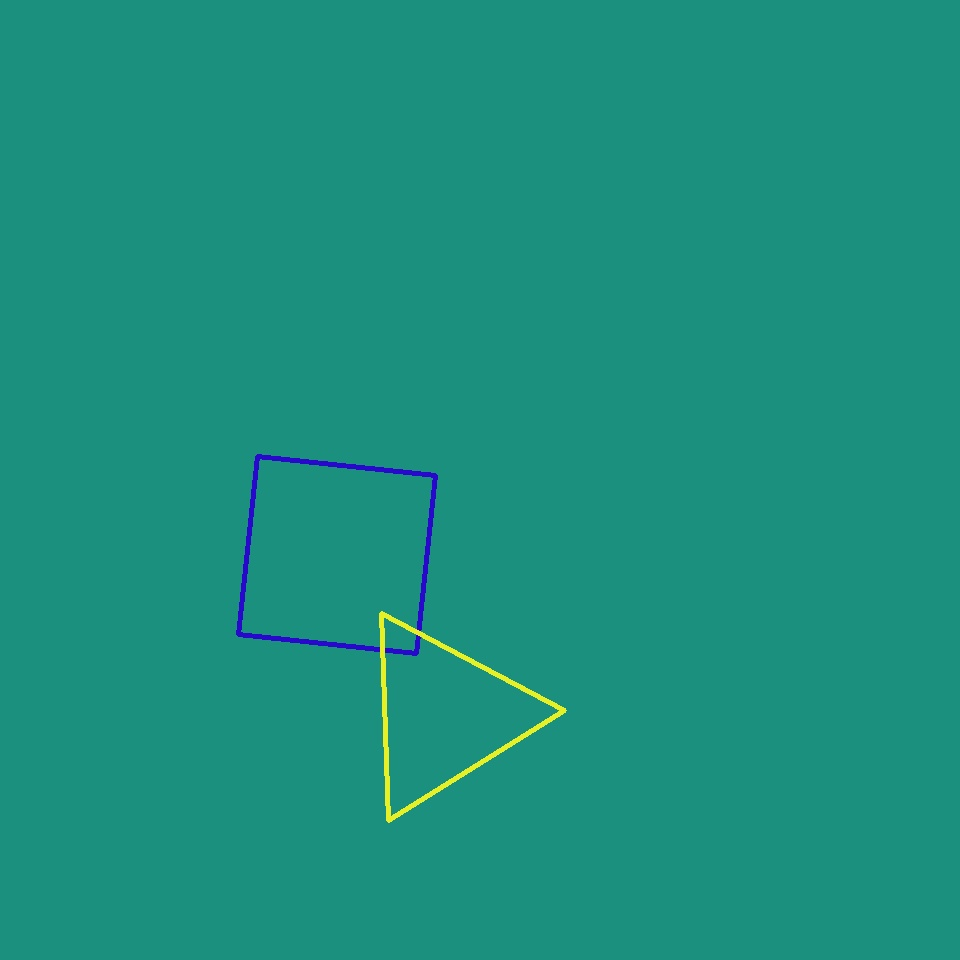circle: (354, 612, 536, 818)
square: (238, 456, 436, 654)
